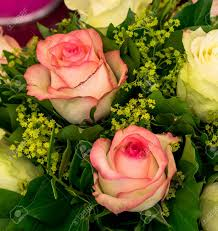lale: (12, 23, 134, 119), (86, 115, 186, 223)
